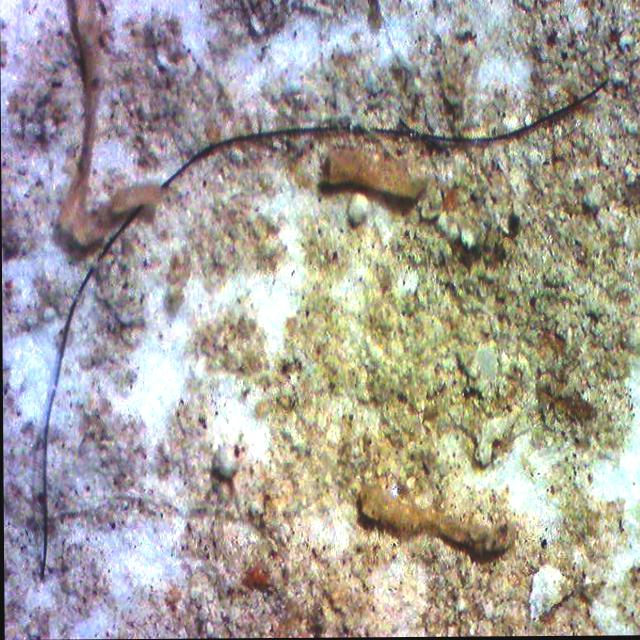microplastic: (155, 81, 613, 189)
